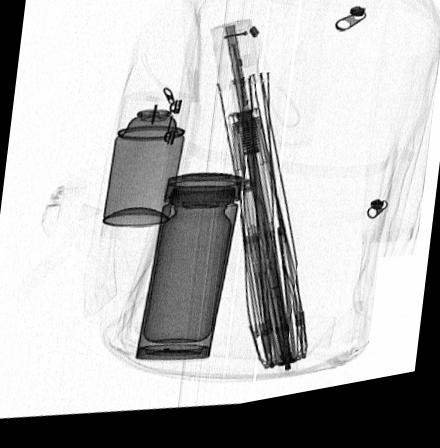Sprayer: (102, 95, 191, 231)
